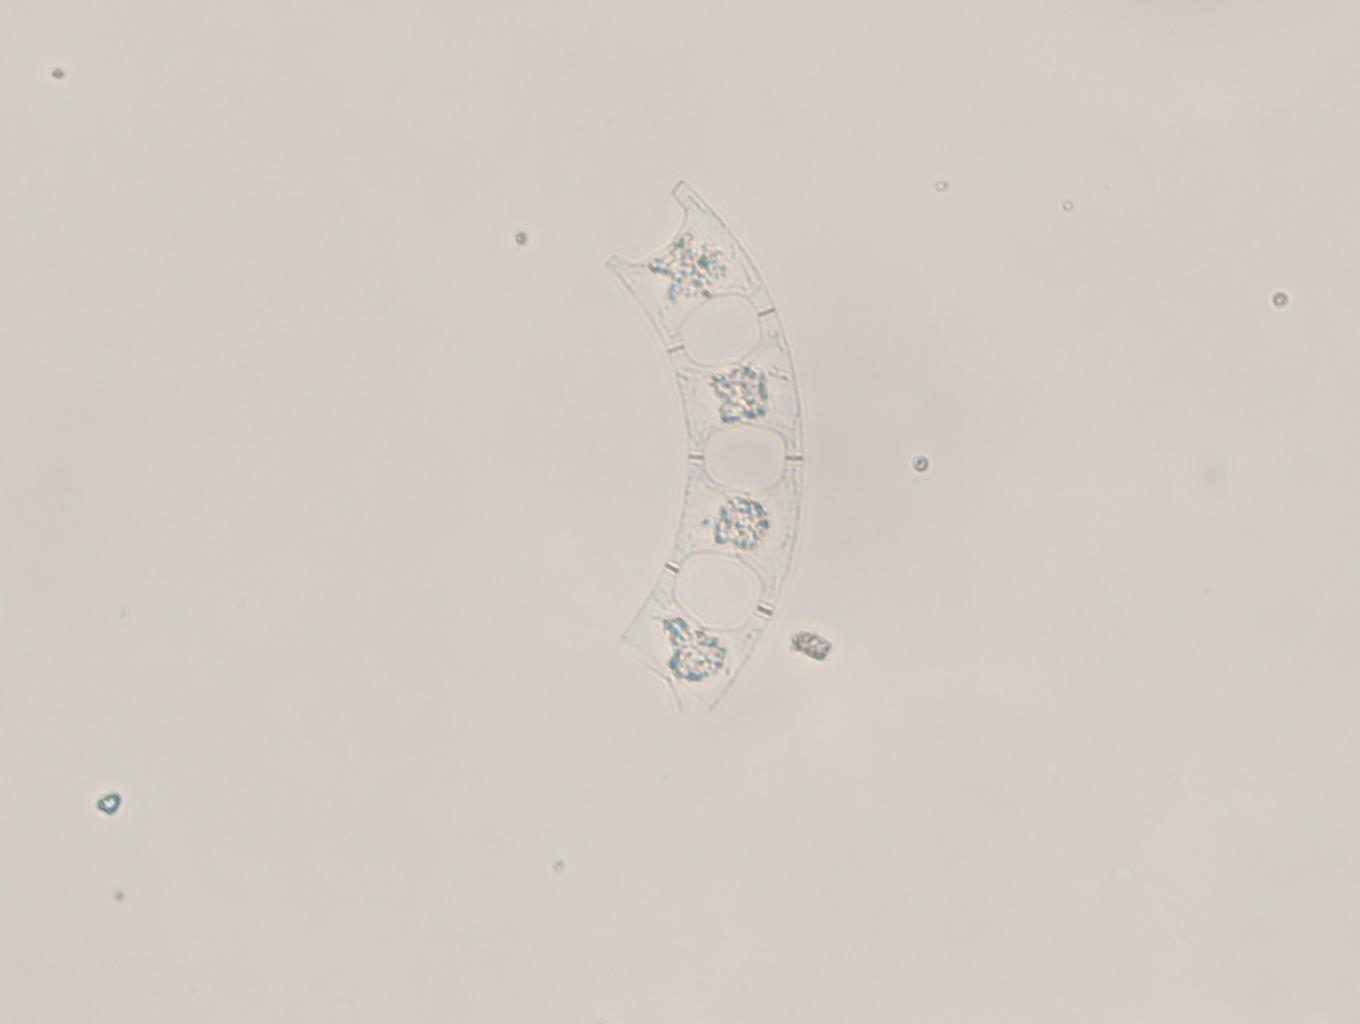eucampia: (602, 177, 803, 726)
